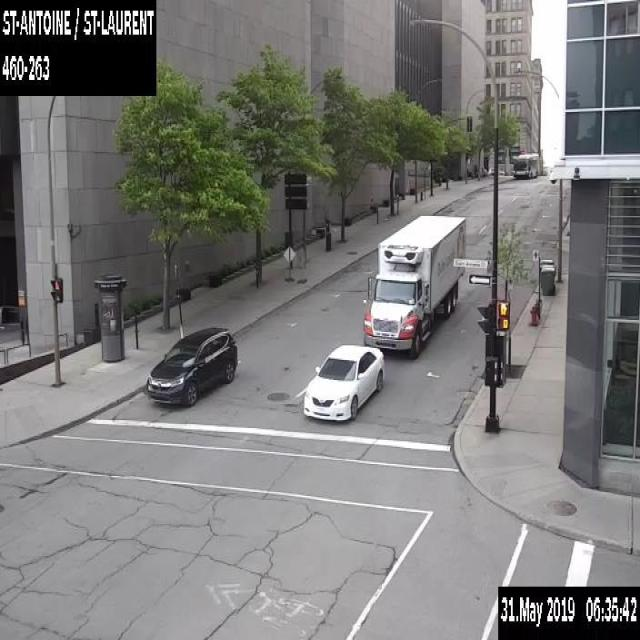bus: (512, 151, 538, 177)
construction: (283, 244, 296, 280), (297, 247, 306, 283)
vehicle: (363, 213, 466, 357), (146, 326, 237, 404), (301, 342, 384, 420)
